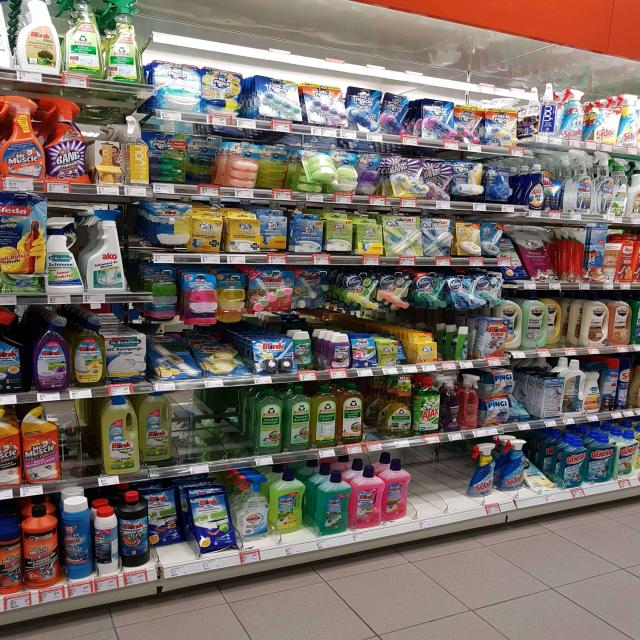void: (413, 448, 465, 528), (176, 391, 218, 472), (220, 387, 251, 467)
